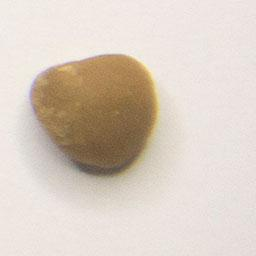defect: (25, 50, 162, 179)
